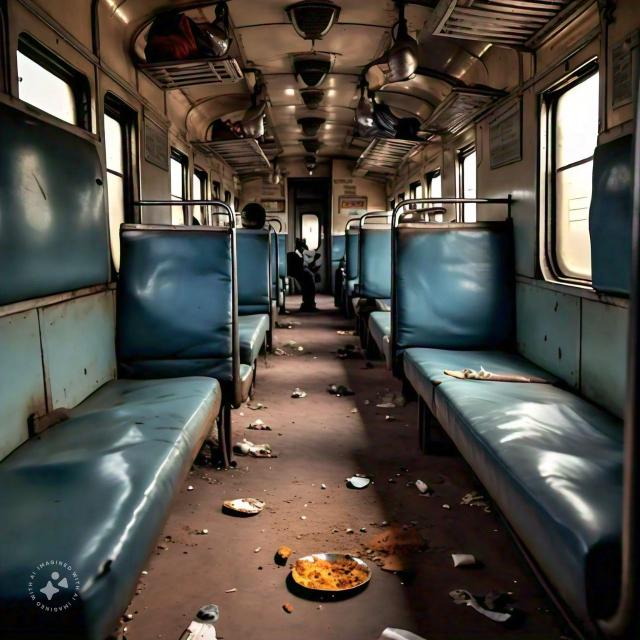Interior_Cleanliness: (201, 228, 425, 640), (4, 320, 174, 479)
Lights: (274, 0, 360, 52), (280, 56, 340, 101), (286, 106, 339, 142), (290, 147, 332, 188)
